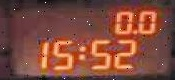-: (130, 29, 136, 34)
0: (110, 8, 131, 34), (136, 8, 155, 34)
1: (35, 38, 48, 69)
2: (112, 36, 137, 70)
5: (86, 36, 110, 70), (50, 36, 73, 70)
X: (73, 43, 87, 60)
